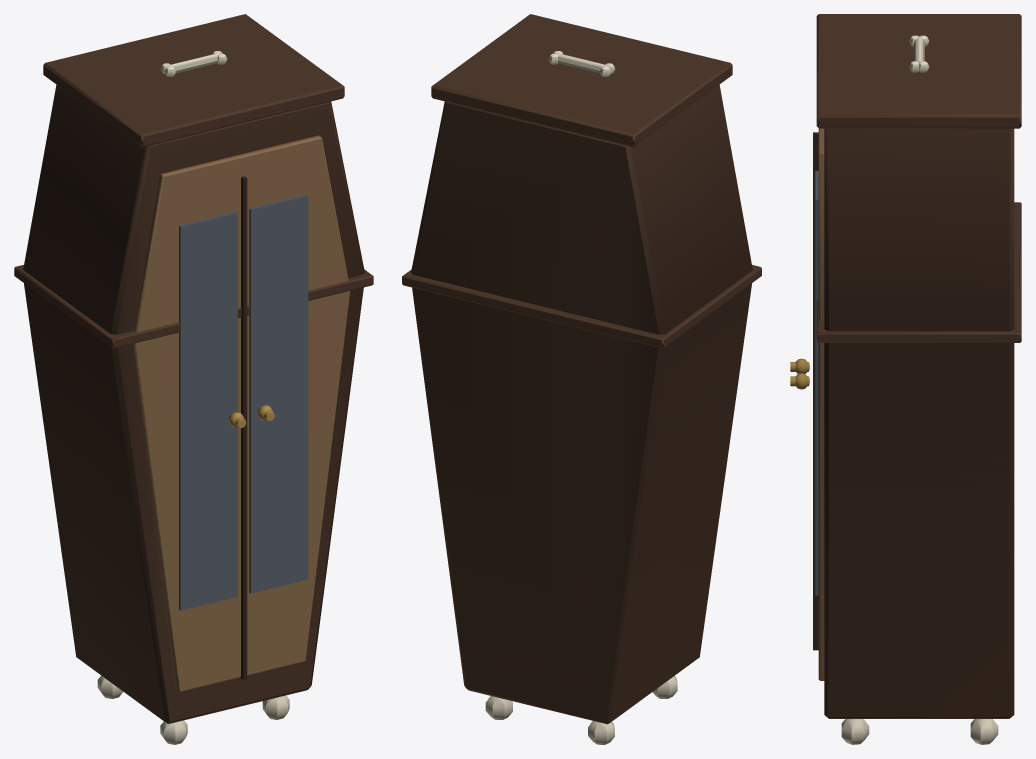
Rendered from wardrobe_coffin.glb.
3 views of the same model, side by side, from view 1: azimuth 30°, elevation 25°; view 2: azimuth 150°, elevation 25°; view 3: azimuth 270°, elevation 25° (orthographic). The views are drawn at different scales.
Parts seen in each view (by area): view 1: wardrobe_coffin; view 2: wardrobe_coffin; view 3: wardrobe_coffin.
Part boxes in pixels (box(x1,y1,x2,y2)): wardrobe_coffin: box(14, 14, 373, 744); wardrobe_coffin: box(402, 14, 761, 744); wardrobe_coffin: box(790, 14, 1021, 744).
Bounding box in the file's own units: 0.82 × 1.95 × 0.61.
